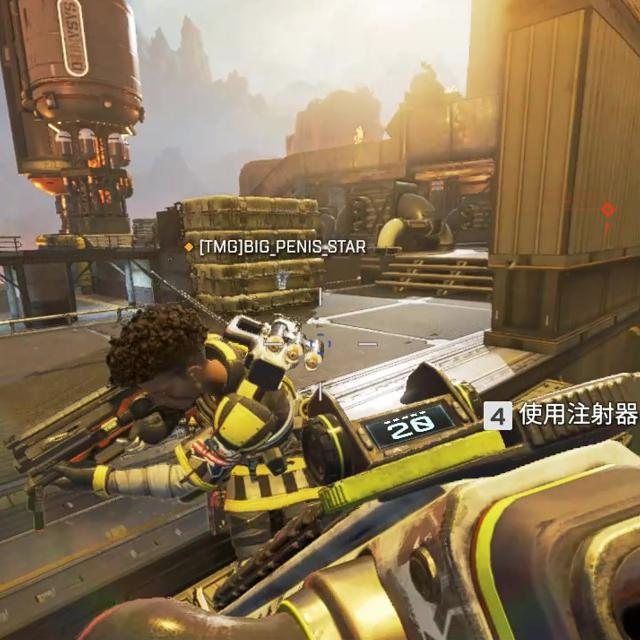avatar: (103, 303, 324, 564)
